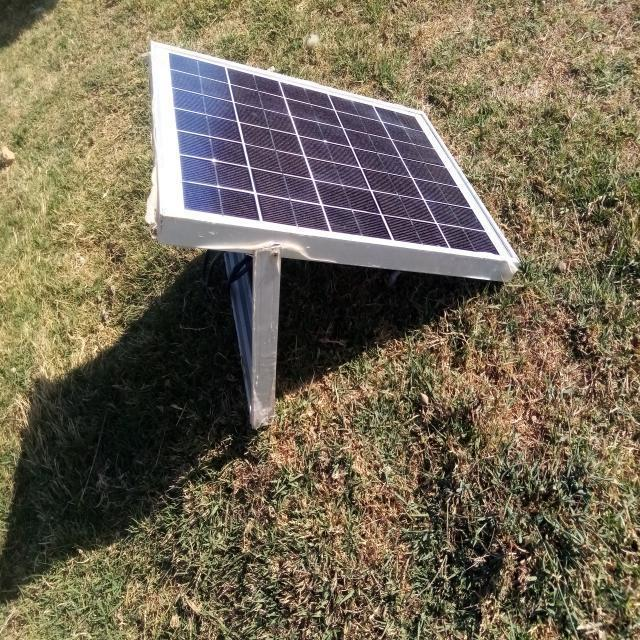Normal Solar Panel: (151, 42, 519, 265)
